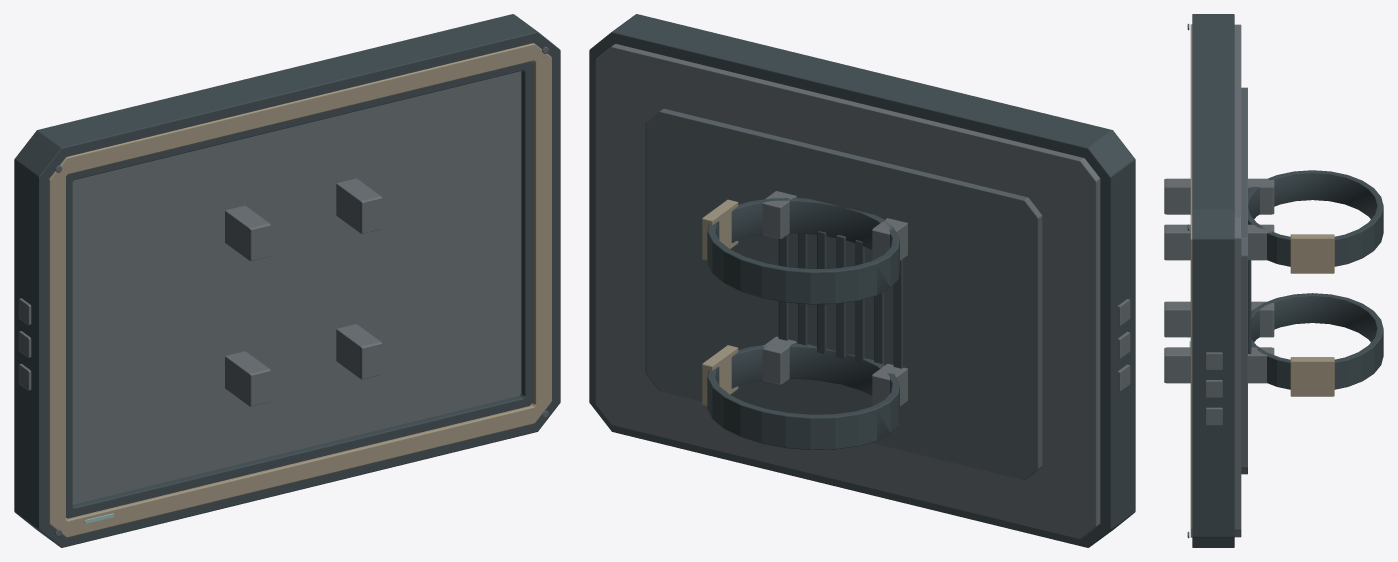
Rendered from pda.glb.
3 renders of one model, left to right at view 1: azimuth 30°, elevation 25°; view 2: azimuth 150°, elevation 25°; view 3: azimuth 270°, elevation 25°, orthographic. The views are drawn at different scales.
Visible parts, largest first — view 1: STWrist_pda_Case, STWrist_pda_Mount; view 2: STWrist_pda_Case, STWrist_pda_Mount; view 3: STWrist_pda_Case, STWrist_pda_Mount.
Part boxes in pixels (bbox=[...]): STWrist_pda_Case: bbox=[14, 14, 560, 547]; STWrist_pda_Mount: bbox=[225, 178, 381, 406]; STWrist_pda_Case: bbox=[589, 14, 1135, 547]; STWrist_pda_Mount: bbox=[702, 191, 907, 449]; STWrist_pda_Case: bbox=[1187, 14, 1251, 547]; STWrist_pda_Mount: bbox=[1164, 170, 1383, 396].
Size of the model in its own units: 0.303 by 0.22 by 0.1295.
